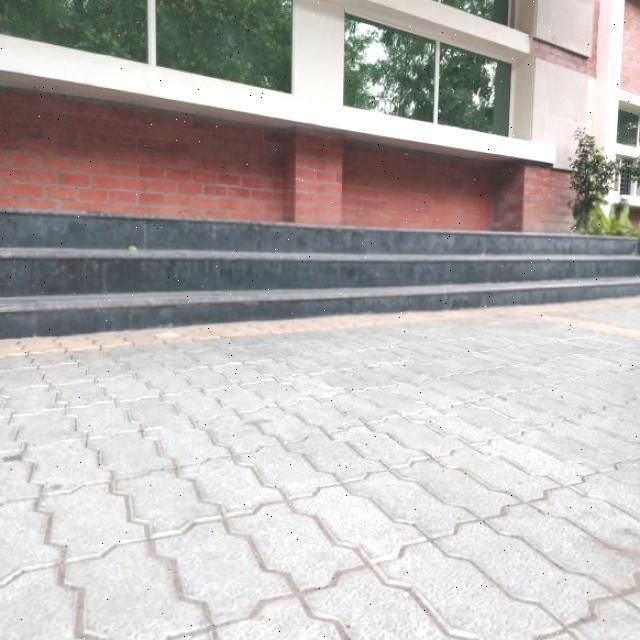stair: (16, 195, 640, 336)
